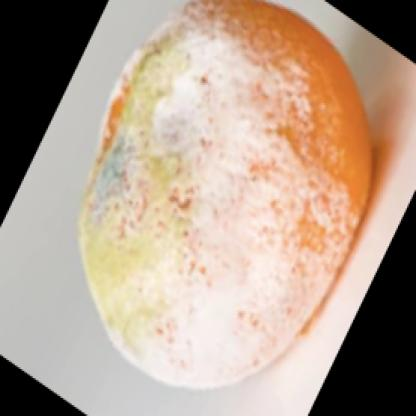rotten: (82, 1, 374, 388)
